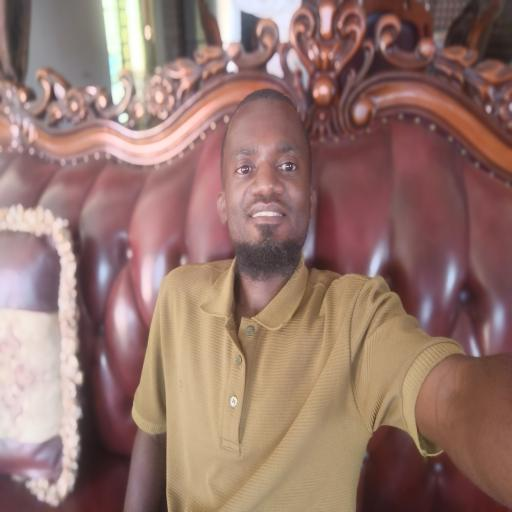MATTHIEU: (220, 86, 316, 284)
